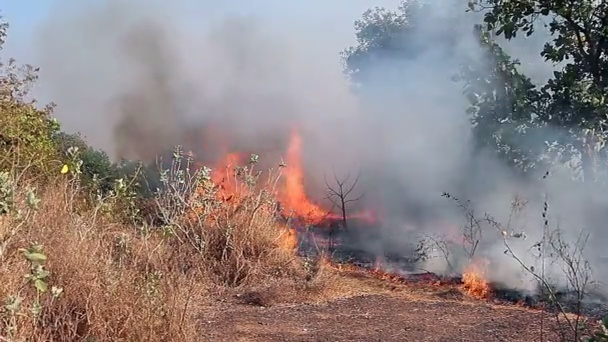fire: (462, 268, 487, 294), (60, 162, 71, 172)
